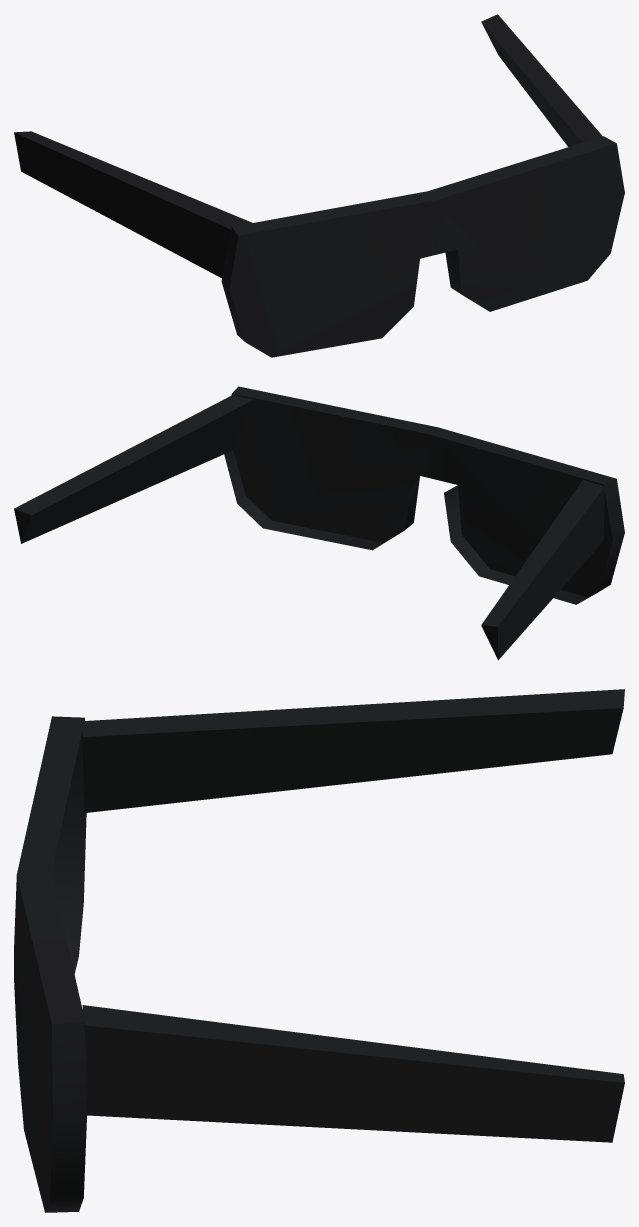
Rendered from Male_Glasses_03.fbx.
3 views of the same model, one above another, from view 1: azimuth 30°, elevation 25°; view 2: azimuth 150°, elevation 25°; view 3: azimuth 270°, elevation 25° (orthographic). The views are drawn at different scales.
Visible parts, largest first — view 1: Male_Glasses_03; view 2: Male_Glasses_03; view 3: Male_Glasses_03.
Part boxes in pixels (x1,y1,x2,y2): Male_Glasses_03: (14,14,624,357); Male_Glasses_03: (14,386,624,660); Male_Glasses_03: (14,689,624,1212).
Bounding box in the file's own units: 56.11 × 14.43 × 36.78.
